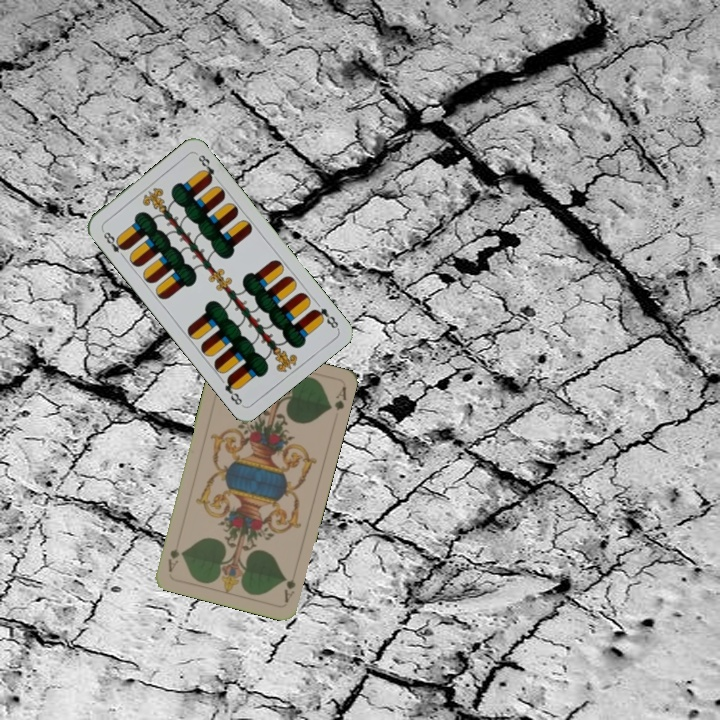E8: (98, 226, 129, 261), (309, 304, 342, 331)
GA: (280, 574, 298, 606)
